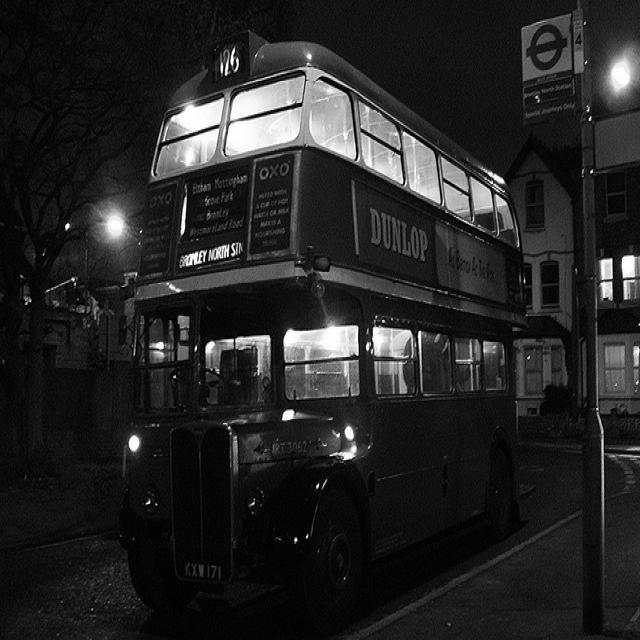Bus: (119, 21, 556, 635)
